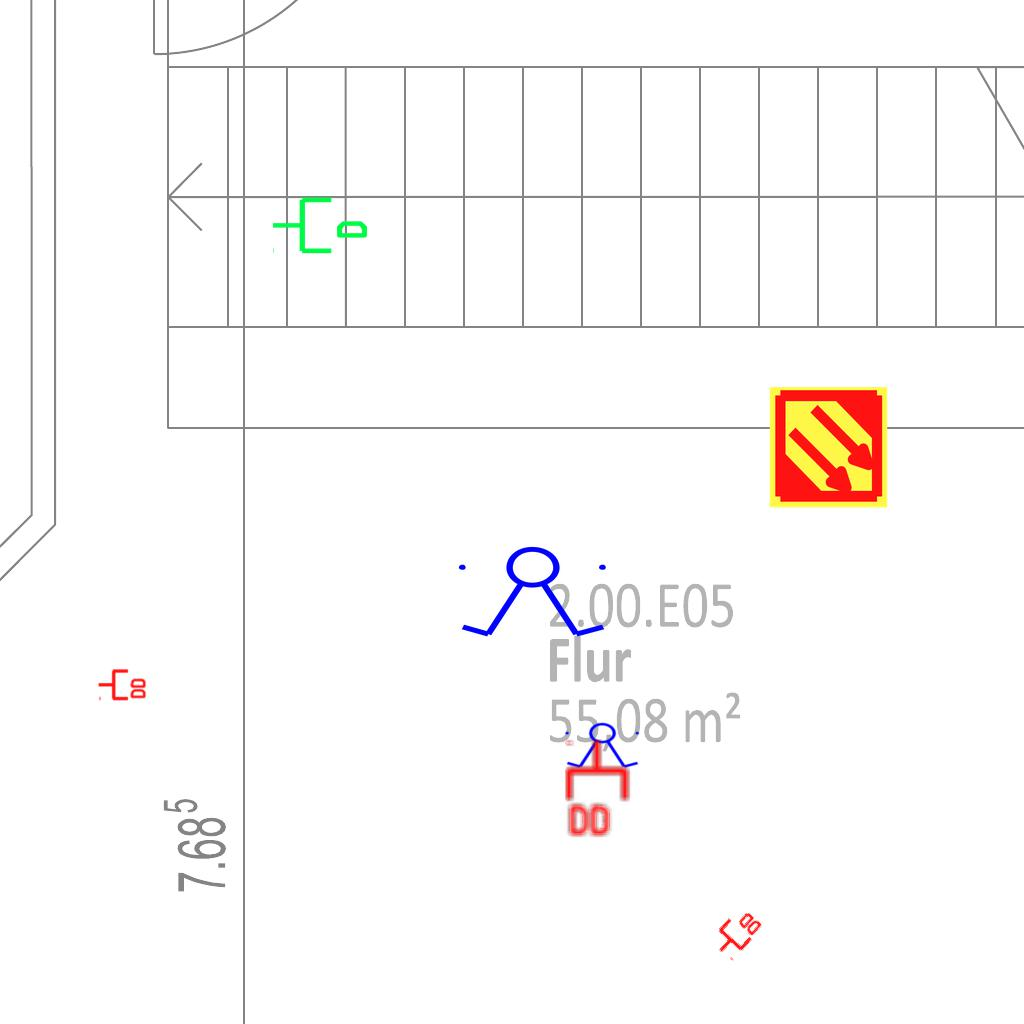ASR_Ansaugrauchmelder: (766, 385, 891, 510)
Datenanschluss_einfach: (270, 189, 370, 258)
Datenanschluss_zweifach: (564, 737, 633, 840), (706, 902, 766, 963), (97, 667, 148, 701)
Serienschalter: (450, 545, 618, 641), (561, 722, 645, 770)
